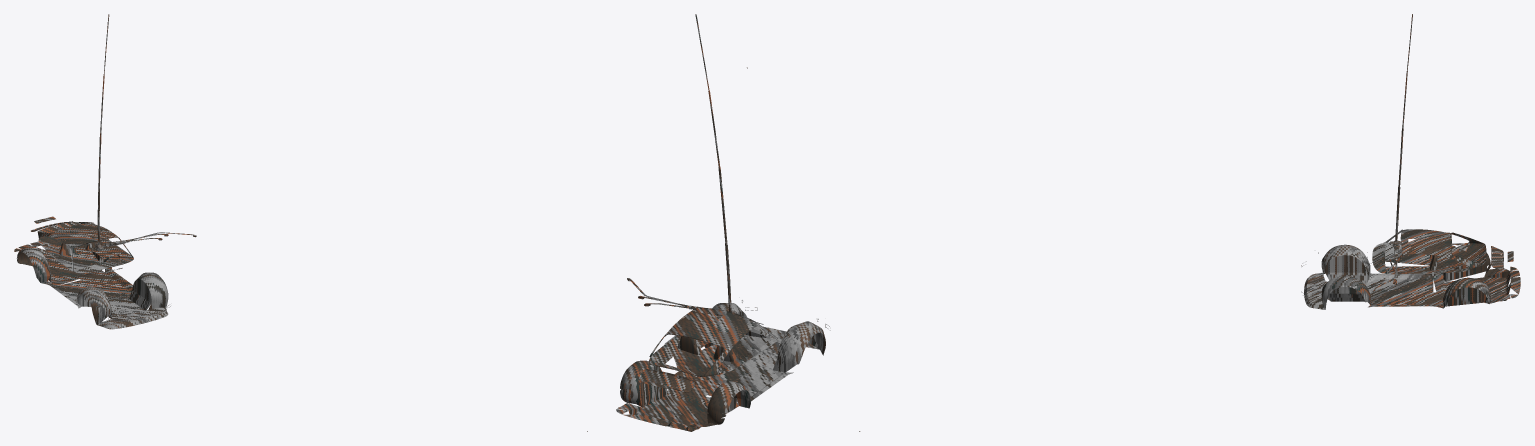
The model's file is 1975-porsche-911-turbo.glb.
The picture shows the model from 3 angles, left to right: view 1: azimuth 30°, elevation 25°; view 2: azimuth 150°, elevation 25°; view 3: azimuth 270°, elevation 25°; orthographic projection. The views are drawn at different scales.
Parts seen in each view (by area): view 1: mesh_28; view 2: mesh_28, mesh_25; view 3: mesh_28.
Part boxes in pixels (x1,y1,x2,y2): mesh_28: (14,216,170,329); mesh_28: (616,300,830,431); mesh_25: (695,14,732,312); mesh_28: (1301,229,1520,309).
Size of the model in its own units: 2.32 by 2.25 by 4.45.
1 material, 1 textured.
